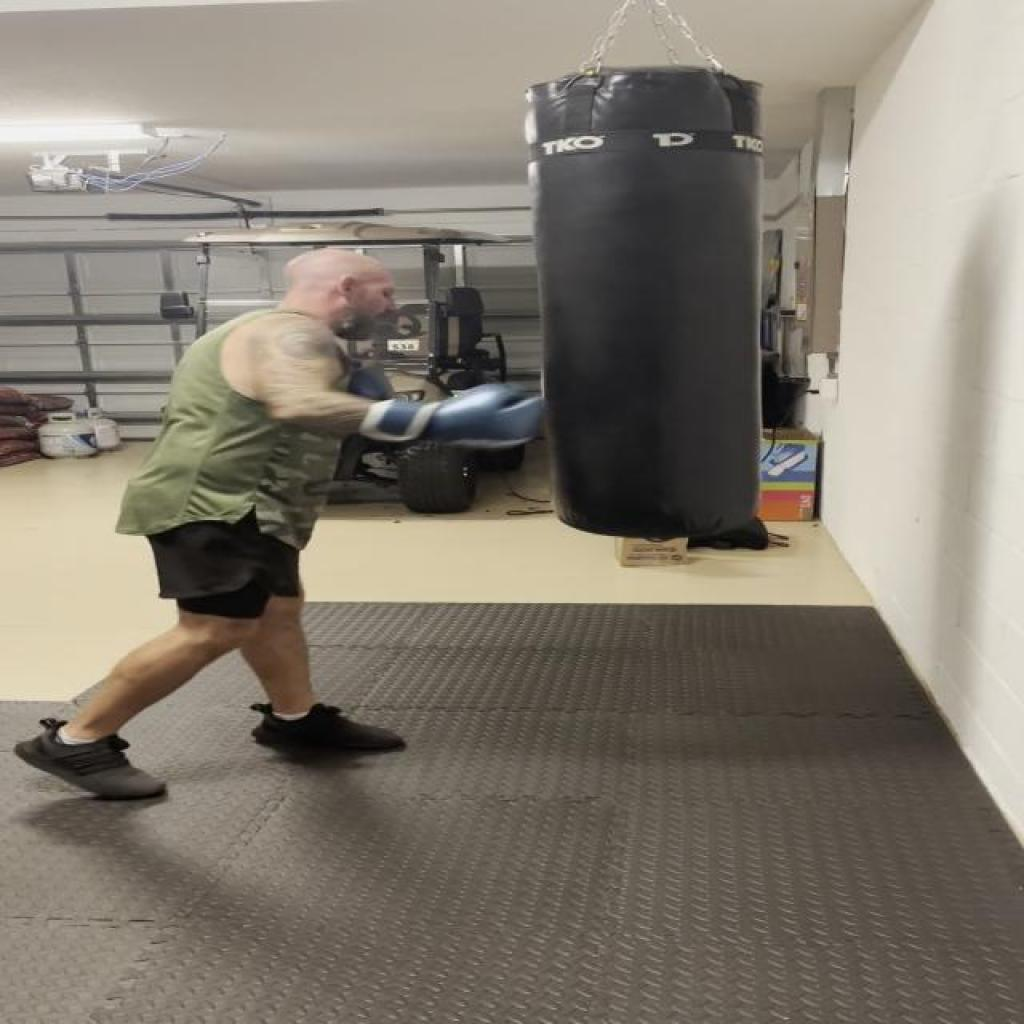bag: (517, 56, 808, 546)
hook: (118, 232, 557, 459)
